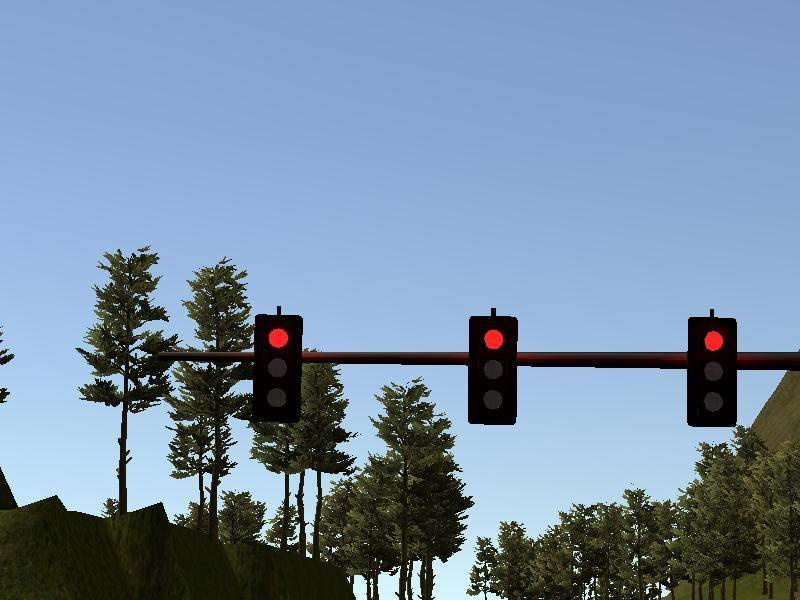Red: (686, 313, 739, 429), (251, 311, 303, 425), (467, 315, 518, 426)
